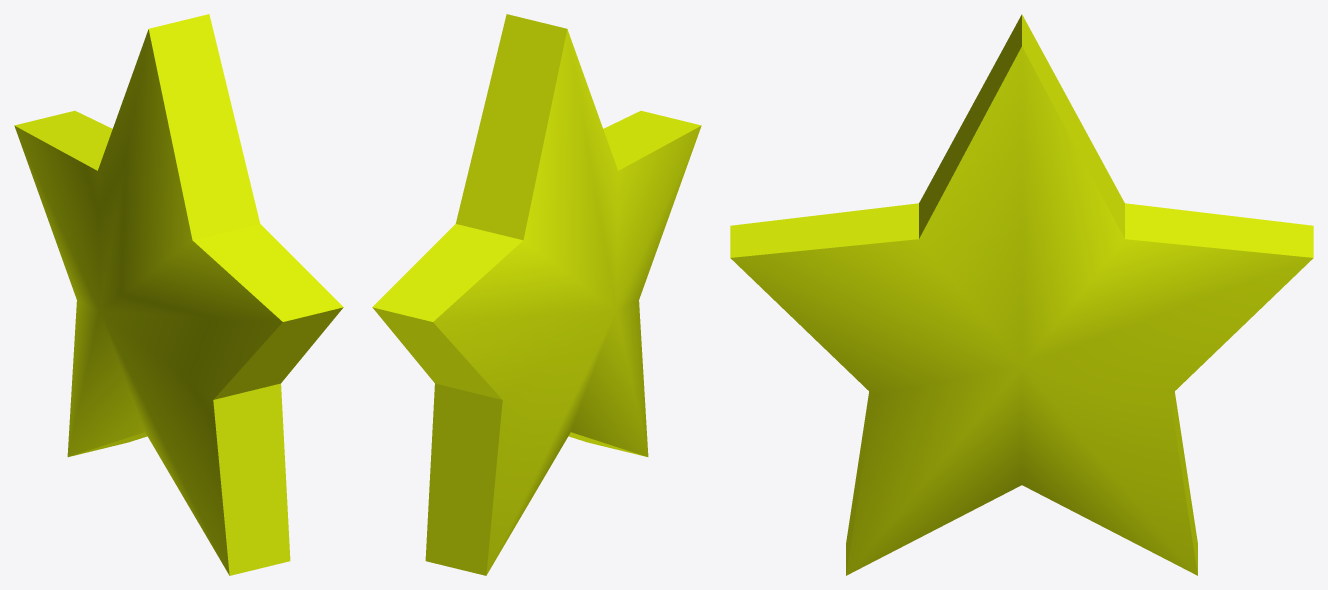
File: star.fbx
3 renders of one model, left to right at view 1: azimuth 30°, elevation 25°; view 2: azimuth 150°, elevation 25°; view 3: azimuth 270°, elevation 25°, orthographic. The views are drawn at different scales.
Visible parts, largest first — view 1: pCylinder2; view 2: pCylinder2; view 3: pCylinder2.
Boxes of the visible parts, bbox=[...] form: pCylinder2: bbox=[14, 14, 343, 575]; pCylinder2: bbox=[372, 14, 701, 575]; pCylinder2: bbox=[730, 14, 1313, 575].
Bounding box in the file's own units: 1.03 × 3.03 × 3.02.
1 material, 1 textured.
